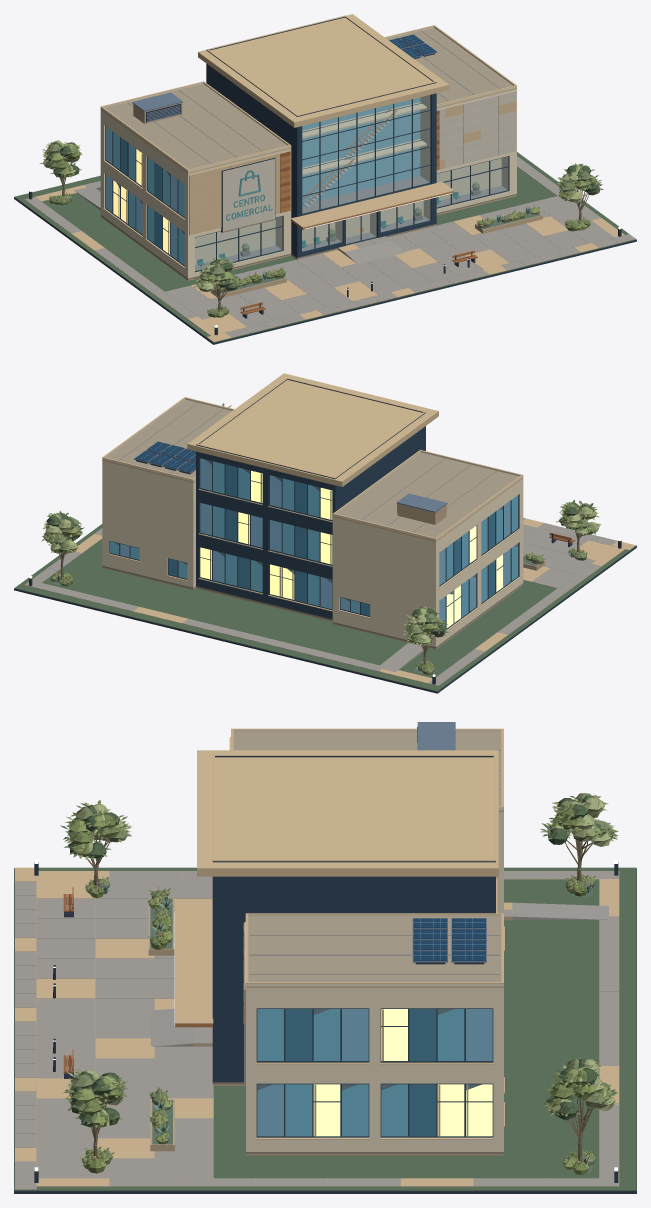
The model's file is centro_comercial.fbx.
The picture shows the model from 3 angles, top to bottom: view 1: azimuth 30°, elevation 25°; view 2: azimuth 150°, elevation 25°; view 3: azimuth 270°, elevation 25°; orthographic projection. The views are drawn at different scales.
Parts seen in each view (by area): view 1: Marquesinas, Muros, Senderos y explanadas, Cristales transparentes, Remates minerales, Islas de plantacion, Marcos y lamas, Equipamiento de fachada, Acristalamiento opaco, Senaletica, Piedra y bordillos, Setos y herbaceas (+4 smaller); view 2: Muros, Marquesinas, Islas de plantacion, Acristalamiento opaco, Senderos y explanadas, Marcos y lamas, Equipamiento de fachada, Remates minerales, Piedra y bordillos, Arbol 231, Arbol 230, Arbol 232 (+1 smaller); view 3: Marquesinas, Senderos y explanadas, Islas de plantacion, Muros, Acristalamiento opaco, Equipamiento de fachada, Marcos y lamas, Setos y herbaceas, Piedra y bordillos, Arbol 231, Arbol 230, Arbol 233 (+3 smaller).
Part boxes in pixels (x1,y1,x2,y2): Marquesinas: (100, 14, 517, 229); Muros: (100, 63, 516, 278); Senderos y explanadas: (24, 156, 635, 342); Cristales transparentes: (195, 95, 508, 270); Remates minerales: (100, 91, 516, 280); Islas de plantacion: (14, 152, 636, 342); Marcos y lamas: (105, 94, 509, 272); Equipamiento de fachada: (132, 34, 480, 266); Acristalamiento opaco: (105, 127, 184, 264); Senaletica: (221, 158, 275, 232); Piedra y bordillos: (14, 197, 636, 344); Setos y herbaceas: (49, 190, 590, 317); Muros: (102, 426, 523, 646); Marquesinas: (102, 373, 523, 541); Islas de plantacion: (14, 524, 636, 691); Acristalamiento opaco: (110, 458, 518, 628); Senderos y explanadas: (24, 518, 635, 685); Marcos y lamas: (109, 458, 519, 629); Equipamiento de fachada: (134, 441, 447, 524); Remates minerales: (102, 489, 523, 649); Piedra y bordillos: (14, 546, 636, 693); Arbol 231: (41, 510, 84, 578); Arbol 230: (402, 606, 448, 664); Arbol 232: (556, 500, 600, 552); Marquesinas: (175, 728, 503, 1027); Senderos y explanadas: (15, 867, 619, 1189); Islas de plantacion: (14, 867, 636, 1190); Muros: (212, 812, 503, 1151); Acristalamiento opaco: (257, 1009, 492, 1136); Equipamiento de fachada: (412, 722, 486, 964); Marcos y lamas: (174, 727, 493, 1137); Setos y herbaceas: (80, 874, 596, 1174); Piedra y bordillos: (14, 869, 636, 1193); Arbol 231: (542, 1058, 619, 1161); Arbol 230: (540, 793, 618, 881); Arbol 233: (63, 1069, 128, 1158).
Bounding box in the file's own units: 38 × 12.56 × 31.
